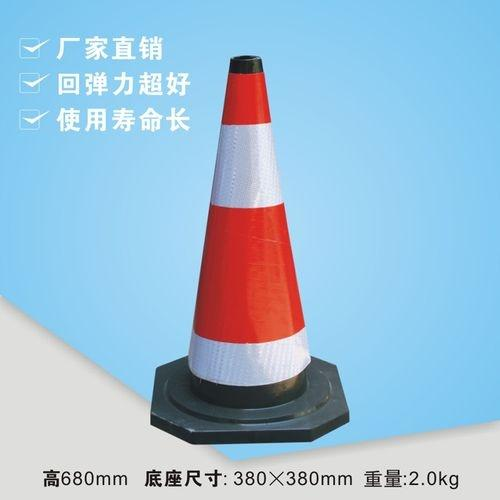cone_barrel: (162, 63, 334, 428)
